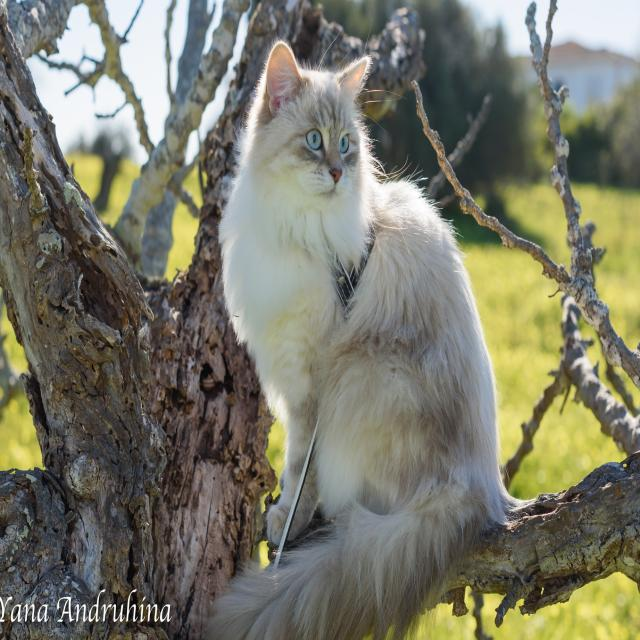Neva Masquerade: (197, 32, 512, 640)
